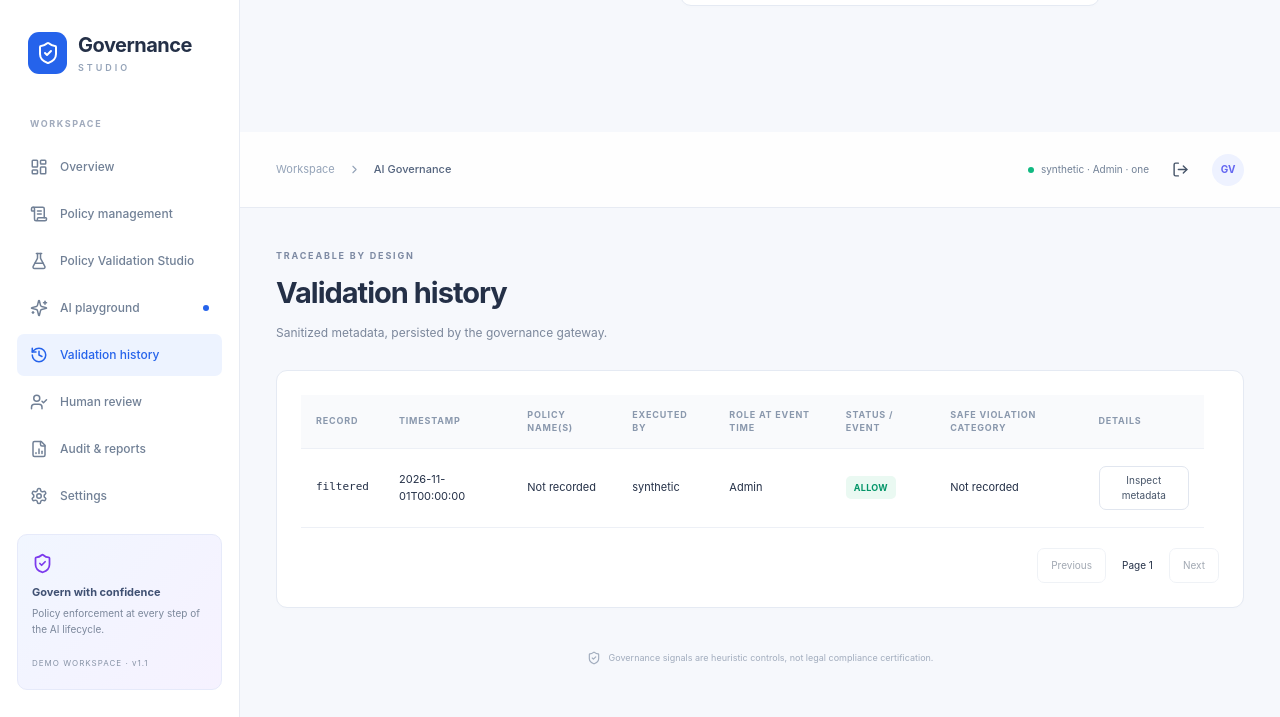
Test: keeps validation records and metadata without loading decision feedback
(page scrolled)
Expected: the heading "Validation history" is shown, [276, 275, 507, 310]
Click the button "Inspect metadata": (1144, 488) [1098, 466, 1189, 510]
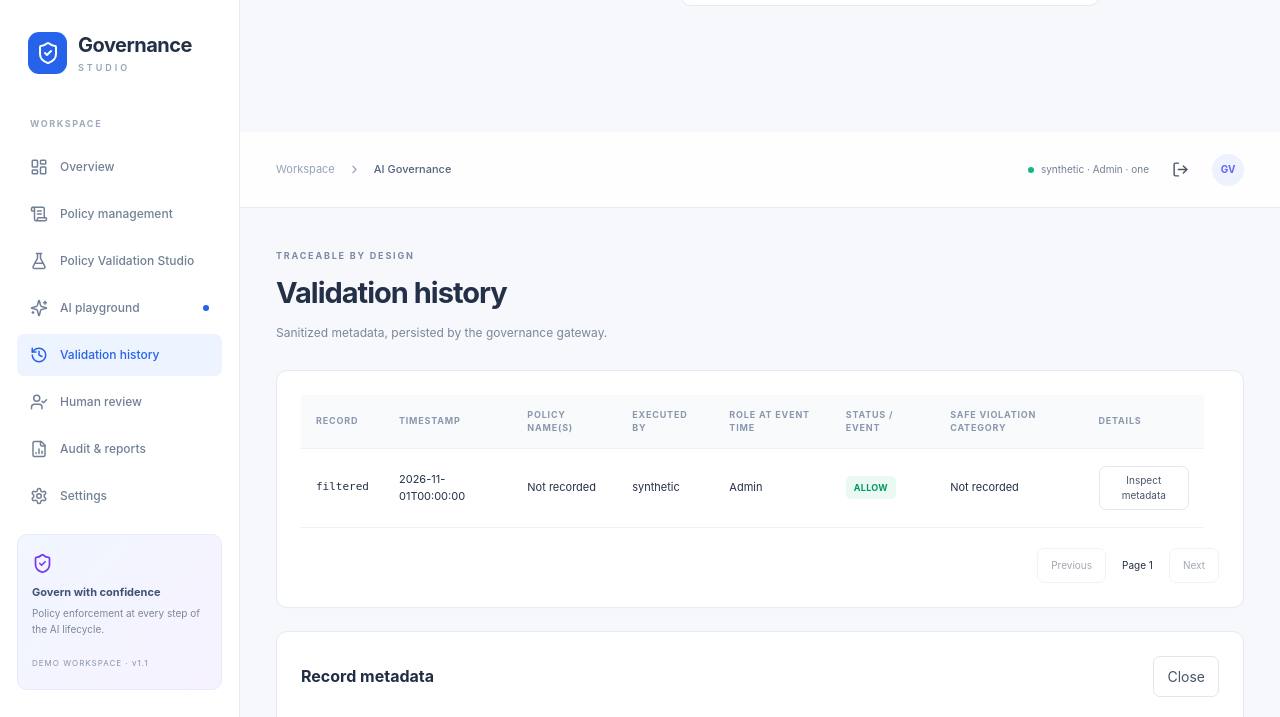
Expected: the heading "Record metadata" is shown, [301, 664, 434, 688]
